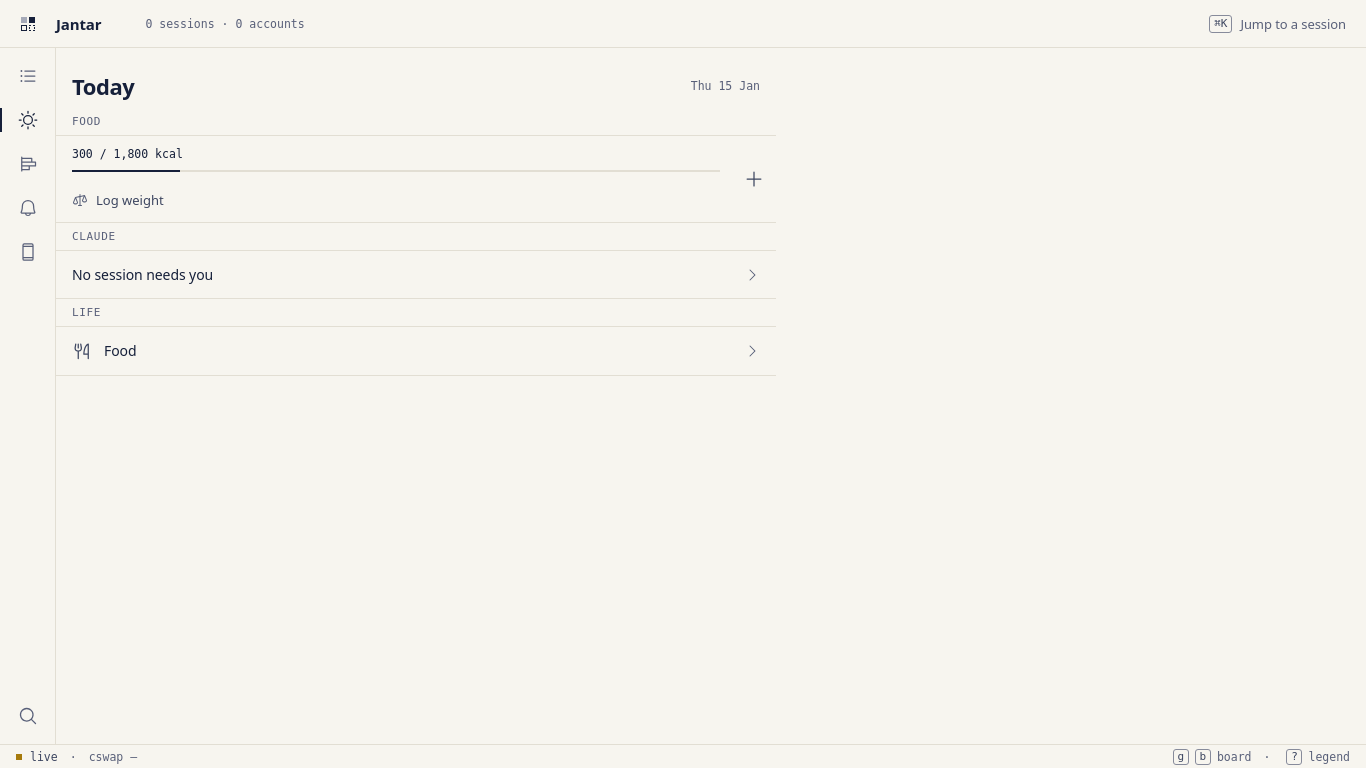
it: the weight sheet › Today reads Log weight while today's is not logged (v0.5.3), and the line opens this sheet
Click the button "Log weight".
click(130, 200)  # box [56,178,736,222]
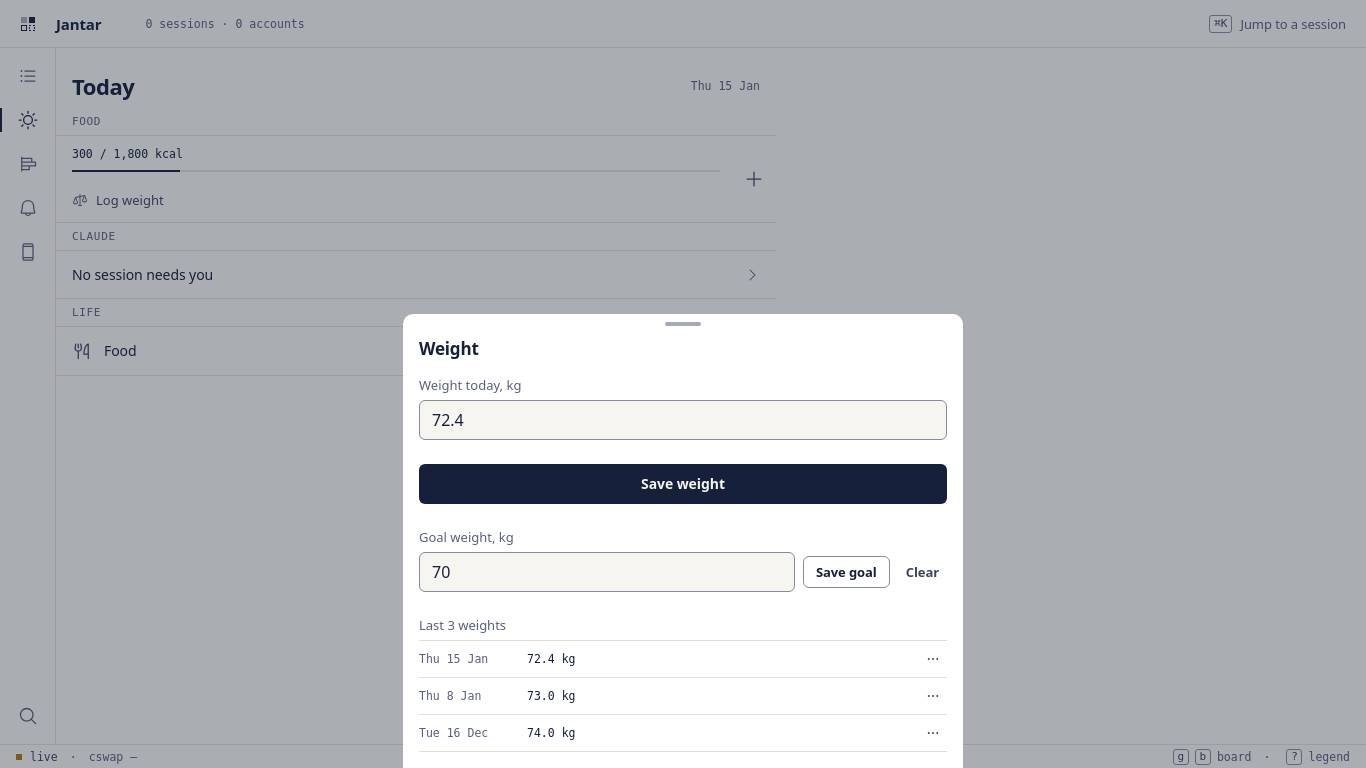
Expected: the text "300 / 1,800 kcal" is shown, [72,146,183,162]
Now the field labelled "Weight today, kg" is shown, box [419,400,947,440]
